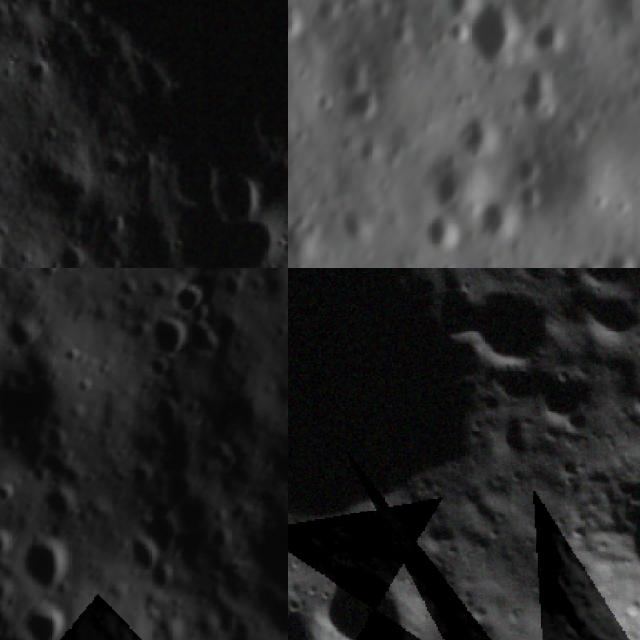crater: (288, 268, 564, 624), (53, 0, 288, 164), (513, 415, 640, 640), (449, 268, 573, 385), (289, 540, 432, 640), (564, 276, 640, 367), (466, 342, 550, 422), (414, 272, 496, 353), (516, 357, 600, 434), (213, 164, 273, 238), (331, 57, 396, 124), (461, 2, 521, 67), (8, 533, 65, 595), (564, 268, 635, 309), (413, 506, 469, 557), (110, 533, 161, 578), (144, 310, 186, 364), (414, 208, 457, 256), (449, 116, 498, 156), (19, 49, 60, 94), (20, 601, 64, 640), (476, 204, 508, 242), (288, 0, 311, 52), (514, 151, 550, 184), (622, 403, 640, 465), (466, 530, 500, 562), (271, 143, 288, 203), (508, 187, 542, 216), (621, 375, 640, 424), (562, 257, 605, 268)
